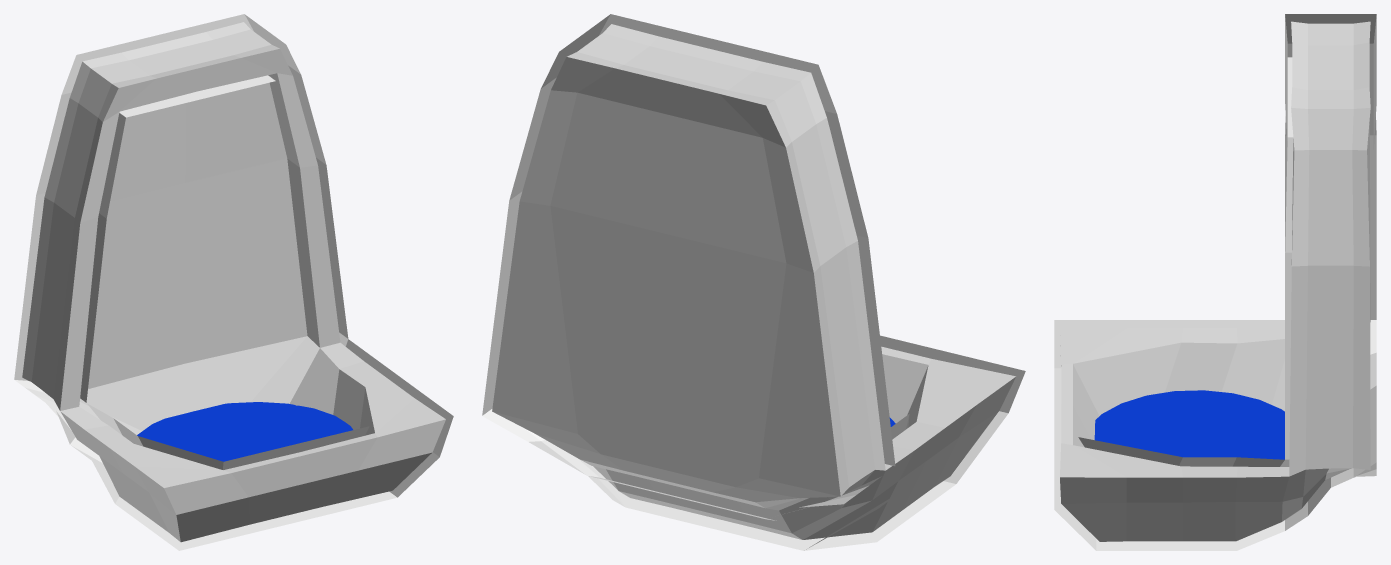
The model's file is urinal.gltf.
The picture shows the model from 3 angles, left to right: view 1: azimuth 30°, elevation 25°; view 2: azimuth 150°, elevation 25°; view 3: azimuth 270°, elevation 25°; orthographic projection. The views are drawn at different scales.
Visible parts, largest first — view 1: Urinal, Water; view 2: Urinal; view 3: Urinal, Water.
Part boxes in pixels (x1,y1,x2,y2): Urinal: (14,14,453,550); Water: (137,402,352,461); Urinal: (482,14,1025,550); Urinal: (1054,14,1376,550); Water: (1094,390,1284,459).
Size of the model in its own units: 0.7663 by 0.9919 by 0.668.
